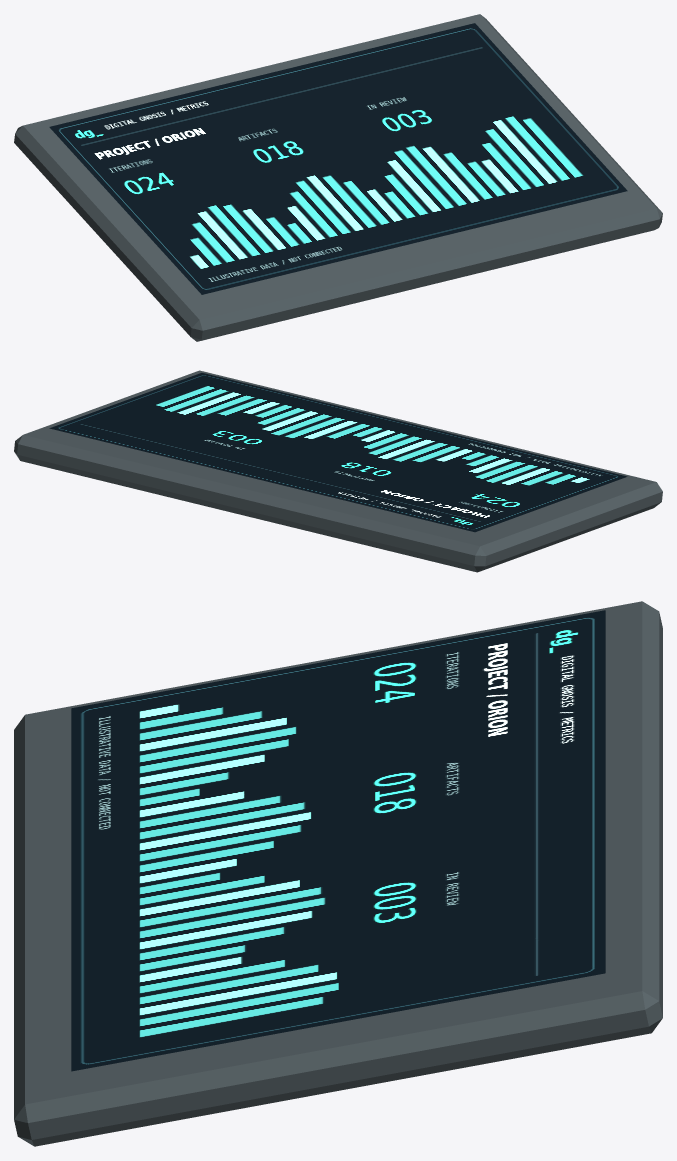
File: Tablet.glb
3 renders of one model, top to bottom at view 1: azimuth 30°, elevation 25°; view 2: azimuth 150°, elevation 25°; view 3: azimuth 270°, elevation 25°, orthographic. The views are drawn at different scales.
Parts seen in each view (by area): view 1: Tablet__Screen_metrics__screen_tablet, Tablet__BlackenedSteel__mesh; view 2: Tablet__Screen_metrics__screen_tablet, Tablet__BlackenedSteel__mesh; view 3: Tablet__Screen_metrics__screen_tablet, Tablet__BlackenedSteel__mesh.
Part boxes in pixels (x1,y1,x2,y2): Tablet__Screen_metrics__screen_tablet: [49, 23, 627, 294]; Tablet__BlackenedSteel__mesh: [14, 14, 662, 341]; Tablet__Screen_metrics__screen_tablet: [49, 373, 627, 532]; Tablet__BlackenedSteel__mesh: [14, 370, 662, 572]; Tablet__Screen_metrics__screen_tablet: [71, 610, 605, 1071]; Tablet__BlackenedSteel__mesh: [14, 601, 662, 1146].
Size of the model in its own units: 0.26 by 0.0483 by 0.1774.
2 materials, 1 textured.
